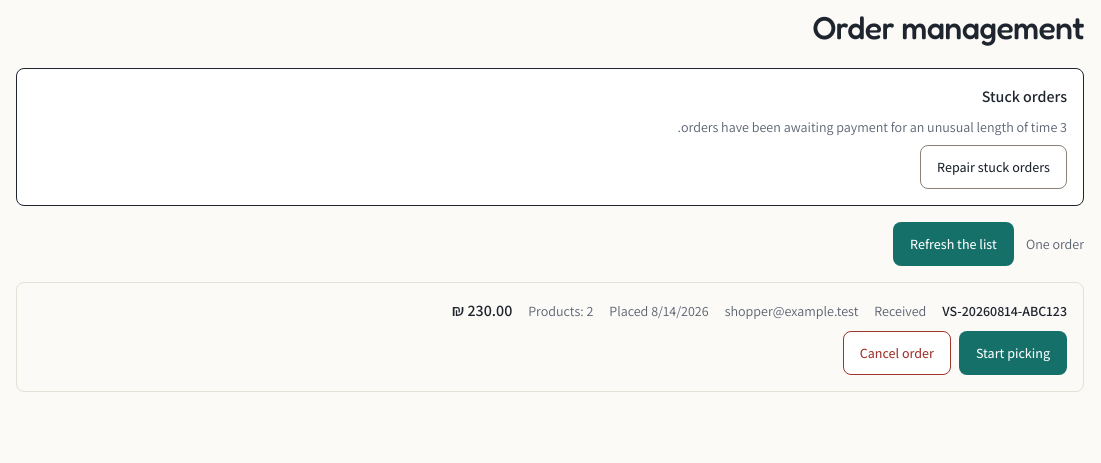
Test: the stuck-order trigger › 🔴 reports a PARTIAL repair as a partial repair, not as success
The image size is (1101, 463).
Step 1. Click the button "Repair stuck orders" → {"x": 994, "y": 167}, box 920,145 -> 1067,189
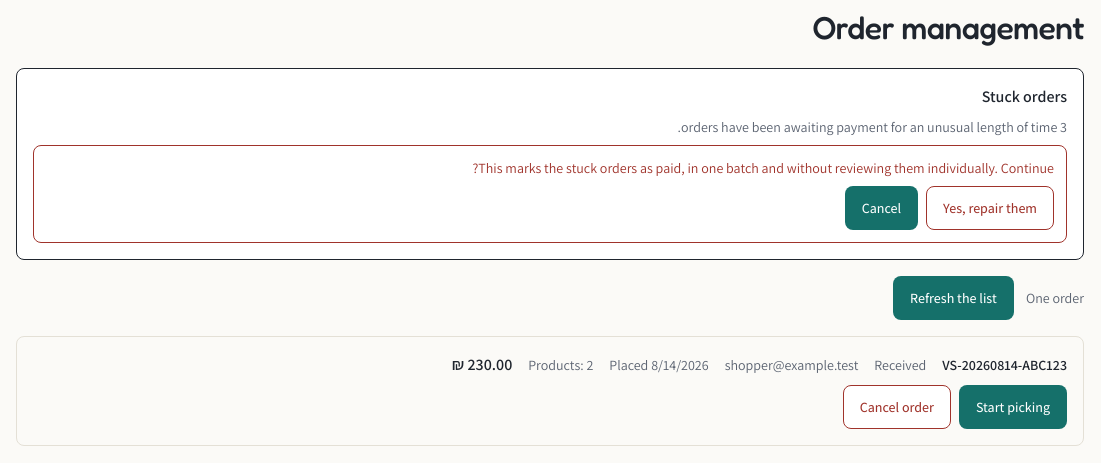
Step 2. Click the button "Yes, repair them" → {"x": 990, "y": 208}, box 926,186 -> 1054,230
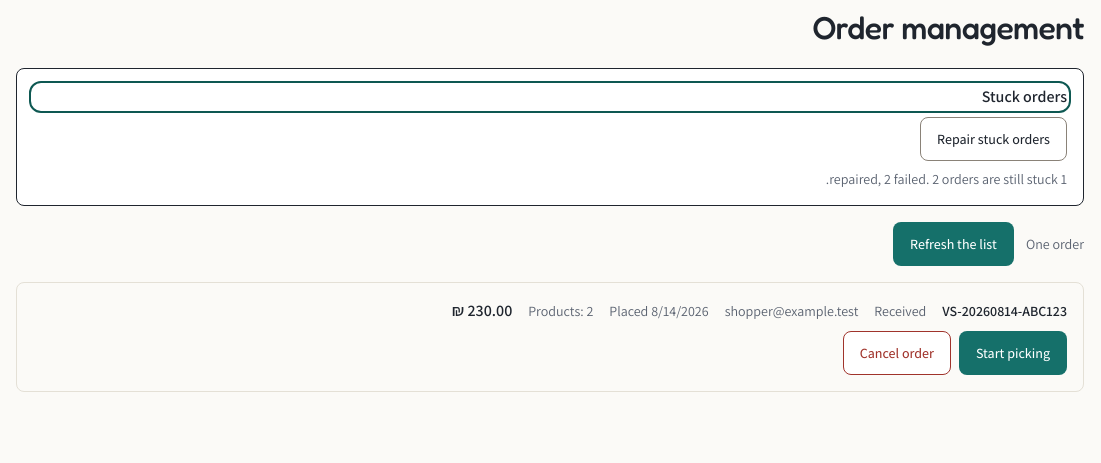
Expected: the text "1 repaired, 2 failed" is shown 2 times
